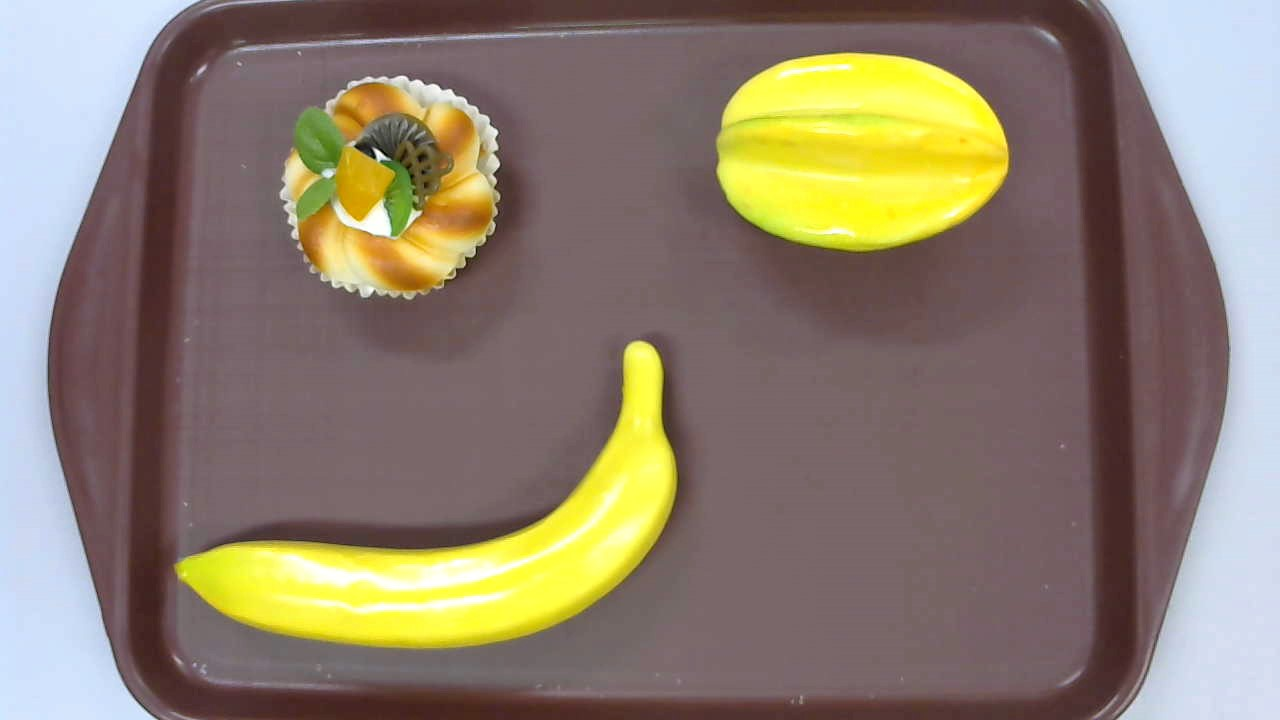banana: (172, 341, 678, 650)
fruit tart: (278, 74, 500, 302)
star fruit: (716, 53, 1010, 253)
